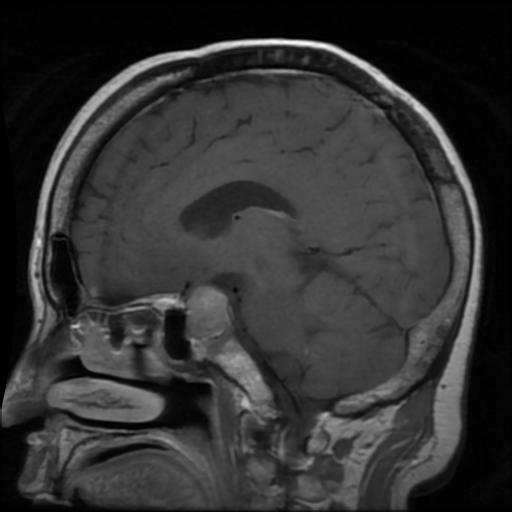Pituirity_tumour: (185, 285, 235, 348)
